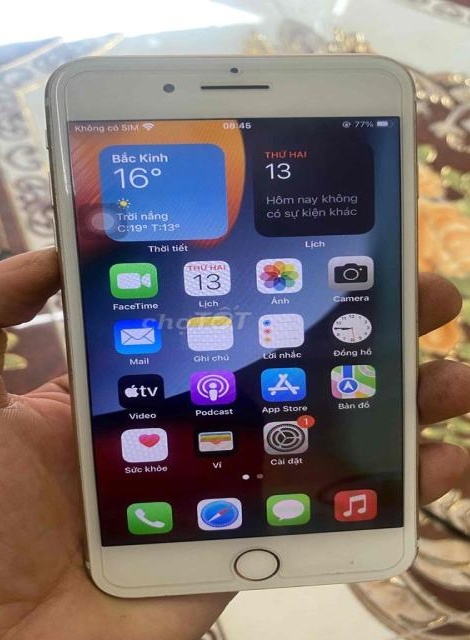scratch: (331, 553, 365, 572)
